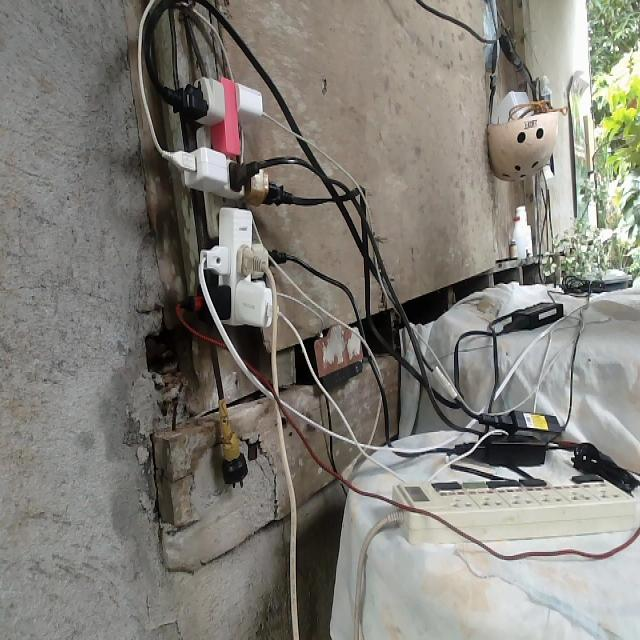-: (147, 72, 296, 328)
